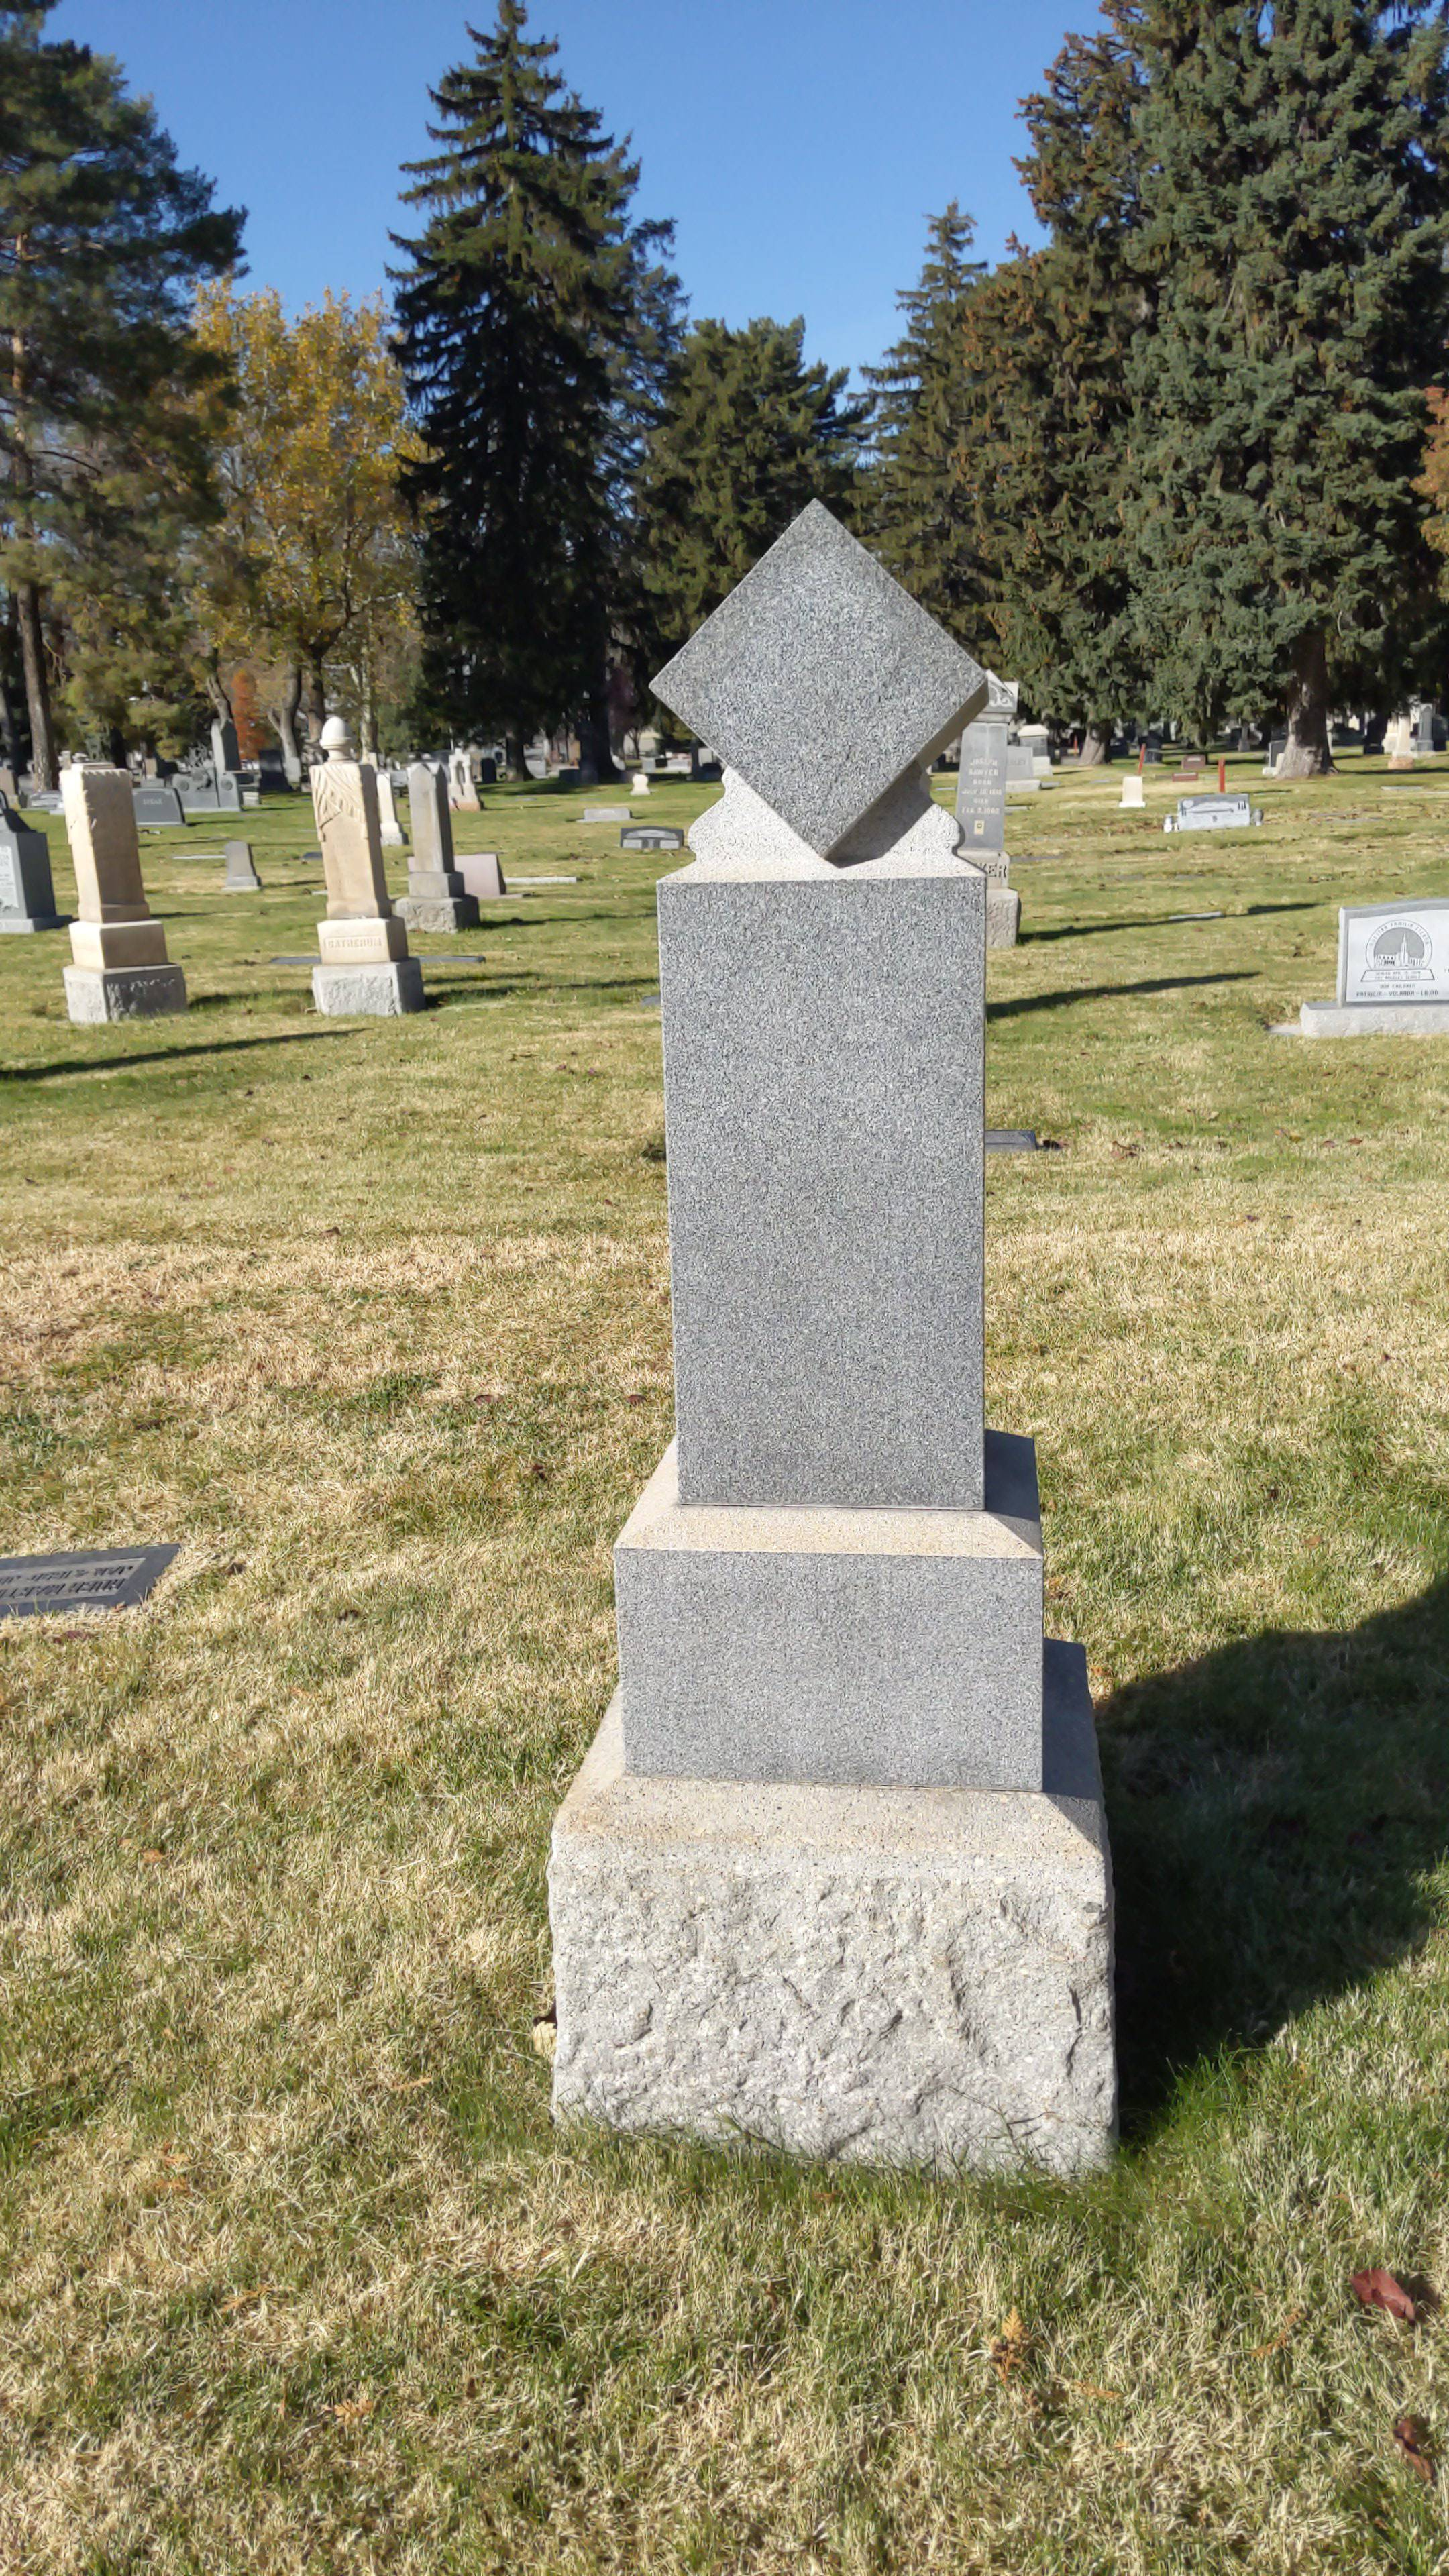obelisk: (605, 506, 1044, 1789)
